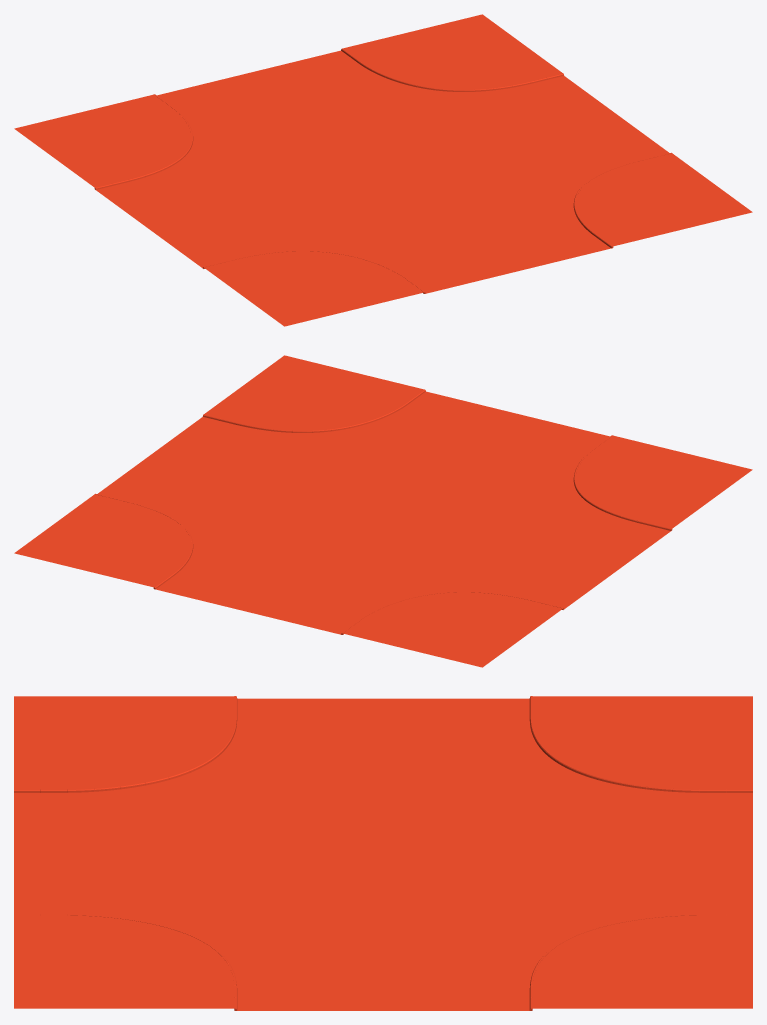
Rendered from SM_Mainroad_Cross_Crosswalk_30x30_City.fbx.
3 renders of one model, top to bottom at view 1: azimuth 30°, elevation 25°; view 2: azimuth 150°, elevation 25°; view 3: azimuth 270°, elevation 25°, orthographic. The views are drawn at different scales.
Parts seen in each view (by area): view 1: SM_Mainroad_Cross_Crosswalk_30x30_City; view 2: SM_Mainroad_Cross_Crosswalk_30x30_City; view 3: SM_Mainroad_Cross_Crosswalk_30x30_City.
Boxes of the visible parts, x1,y1,x2,y2 form: SM_Mainroad_Cross_Crosswalk_30x30_City: (14, 14, 752, 326); SM_Mainroad_Cross_Crosswalk_30x30_City: (14, 355, 752, 667); SM_Mainroad_Cross_Crosswalk_30x30_City: (14, 696, 752, 1010).
Size of the model in its own units: 30 by 0.1084 by 30.
